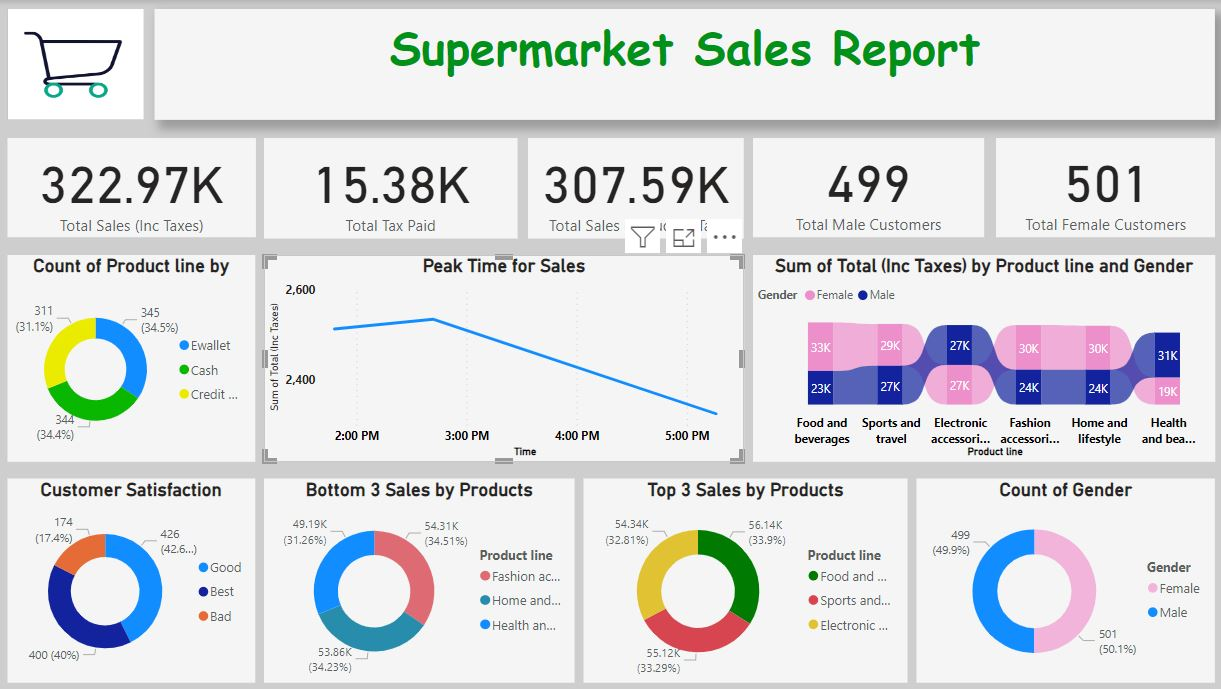

Layout of this report page (visuals, bound fields, positions):
{"tool":"powerbi","page":{"name":"Page 1","canvas":[1280,720],"ordinal":0},"visuals":[{"type":"ribbonChart","fields":{"Category":["Supermarket Sales.Product line"],"Y":["Sum(Supermarket Sales.Total (Inc Taxes))"],"Series":["Supermarket Sales.Gender"]},"box":[787.2,265.5,481,215.5],"z":1000},{"type":"donutChart","title":"Count of Gender","fields":{"Category":["Supermarket Sales.Gender"],"Y":["CountNonNull(Supermarket Sales.Gender)"]},"box":[957.4,498.2,310.8,212.4],"z":2000},{"type":"donutChart","title":"Customer Satisfaction","fields":{"Category":["Supermarket Sales.Customer Satisfection"],"Y":["CountNonNull(Supermarket Sales.Customer Satisfection)"]},"box":[10.9,498.2,257.7,212.4],"z":3000},{"type":"donutChart","title":"Top 3 Sales by Products","fields":{"Y":["Supermarket Sales.Sales + Tax"],"Category":["Supermarket Sales.Product line"]},"box":[610.7,498.2,337.4,212.4],"z":4000},{"type":"donutChart","fields":{"Category":["Supermarket Sales.Payment"],"Y":["CountNonNull(Supermarket Sales.Product line)"]},"box":[10.9,265.5,257.7,215.5],"z":5000},{"type":"donutChart","title":"Bottom 3 Sales by Products","fields":{"Y":["Supermarket Sales.Sales + Tax"],"Category":["Supermarket Sales.Product line"]},"box":[278,498.2,323.3,212.4],"z":6000},{"type":"card","fields":{"Values":["Supermarket Sales.Sales - Tax"]},"box":[552.9,143.7,224.9,104.6],"z":7000},{"type":"card","fields":{"Values":["Sum(Supermarket Sales.Tax 5%)"]},"box":[278,143.7,263.9,104.6],"z":8000},{"type":"card","fields":{"Values":["Sum(Supermarket Sales.Total (Inc Taxes))"]},"box":[10.8,143,258.4,103.6],"z":9000},{"type":"card","fields":{"Values":["CountNonNull(Supermarket Sales.Gender)"]},"box":[1040.2,143.7,228,103.1],"z":10000},{"type":"card","fields":{"Values":["CountNonNull(Supermarket Sales.Gender)"]},"box":[787.2,143.7,240.5,103.1],"z":11000},{"type":"textbox","box":[164,9.4,1104.2,115.6],"z":12000},{"type":"lineChart","title":"Peak Time for Sales","fields":{"Category":["Supermarket Sales.Time"],"Y":["Sum(Supermarket Sales.Total (Inc Taxes))"]},"box":[278,265.5,499.8,215.5],"z":13000},{"type":"actionButton","box":[10.9,9.4,142.1,115.6],"z":14000}]}

Visuals, with their boxes in screenshot pixels (x1, y1, x2, y2), scaled from the page's 1280x720 canvas onto the 1221x689 screenshot:
ribbonChart - Supermarket Sales.Product line x Sum(Supermarket Sales.Total (Inc Taxes)): bbox=(751, 254, 1210, 460)
"Count of Gender" donutChart: bbox=(913, 477, 1210, 680)
"Customer Satisfaction" donutChart: bbox=(10, 477, 256, 680)
"Top 3 Sales by Products" donutChart: bbox=(583, 477, 904, 680)
donutChart - Supermarket Sales.Payment x CountNonNull(Supermarket Sales.Product line): bbox=(10, 254, 256, 460)
"Bottom 3 Sales by Products" donutChart: bbox=(265, 477, 574, 680)
card - Supermarket Sales.Sales - Tax: bbox=(527, 138, 742, 238)
card - Sum(Supermarket Sales.Tax 5%): bbox=(265, 138, 517, 238)
card - Sum(Supermarket Sales.Total (Inc Taxes)): bbox=(10, 137, 257, 236)
card - CountNonNull(Supermarket Sales.Gender): bbox=(992, 138, 1210, 236)
card - CountNonNull(Supermarket Sales.Gender): bbox=(751, 138, 980, 236)
textbox: bbox=(156, 9, 1210, 120)
"Peak Time for Sales" lineChart: bbox=(265, 254, 742, 460)
actionButton: bbox=(10, 9, 146, 120)
